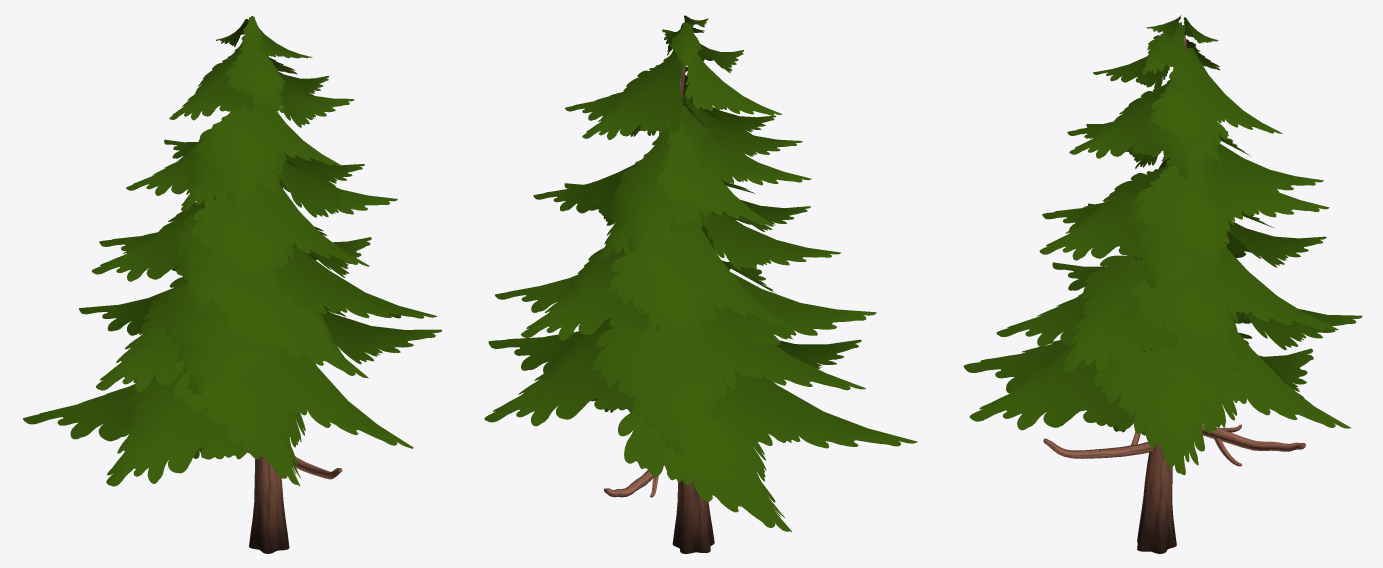
Rendered from Pine_2.glb.
The picture shows the model from 3 angles, left to right: view 1: azimuth 30°, elevation 25°; view 2: azimuth 150°, elevation 25°; view 3: azimuth 270°, elevation 25°; orthographic projection. The views are drawn at different scales.
Visible parts, largest first — view 1: Pine_2; view 2: Pine_2; view 3: Pine_2.
Boxes of the visible parts, <box> form: Pine_2: <box>23,16,441,553</box>; Pine_2: <box>484,15,917,553</box>; Pine_2: <box>963,15,1362,553</box>.
Size of the model in its own units: 5.73 by 7.38 by 5.22.
Materials: 2 (2 with a texture image).
